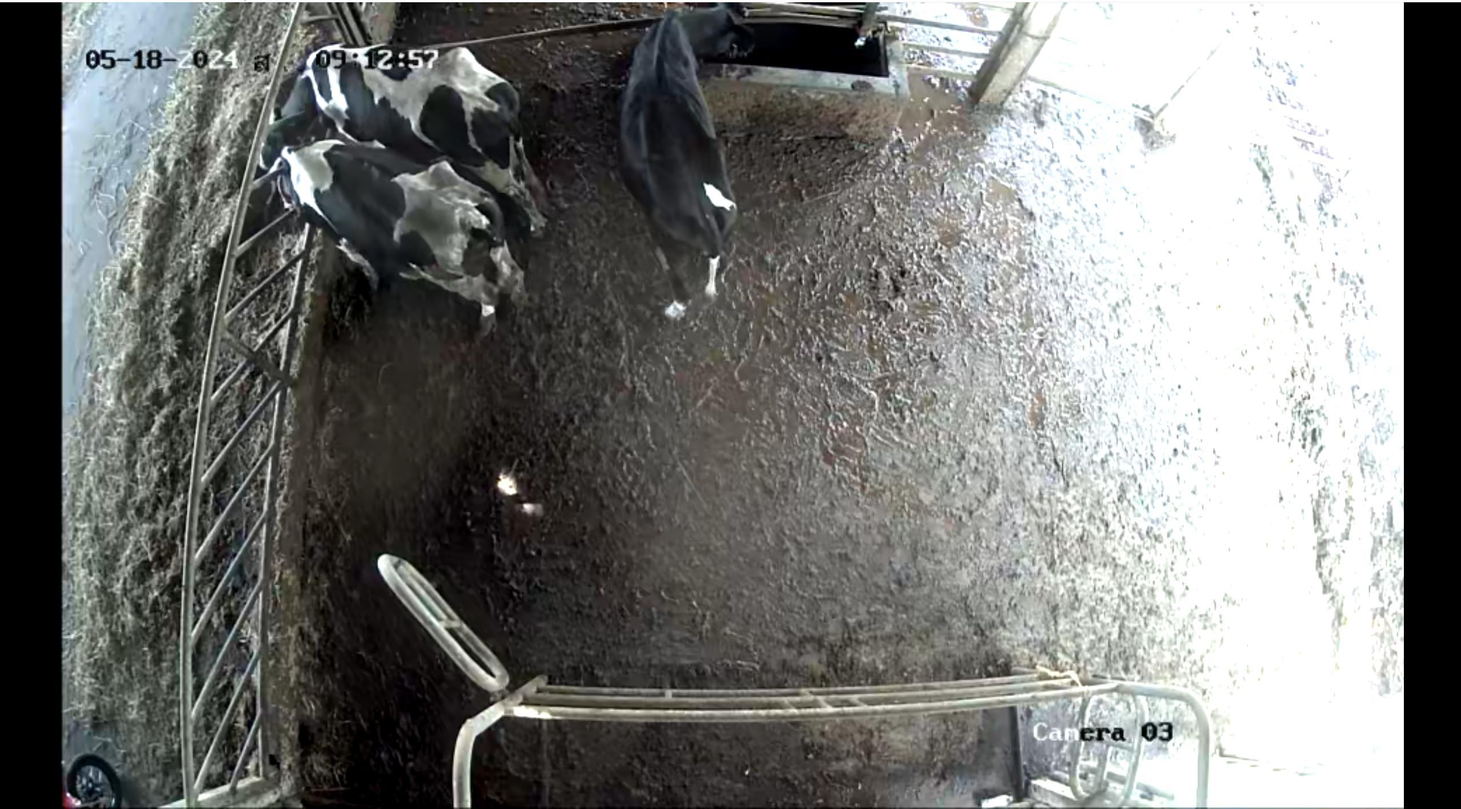drink: (657, 2, 762, 127)
eat: (224, 58, 377, 147), (222, 145, 377, 230)
